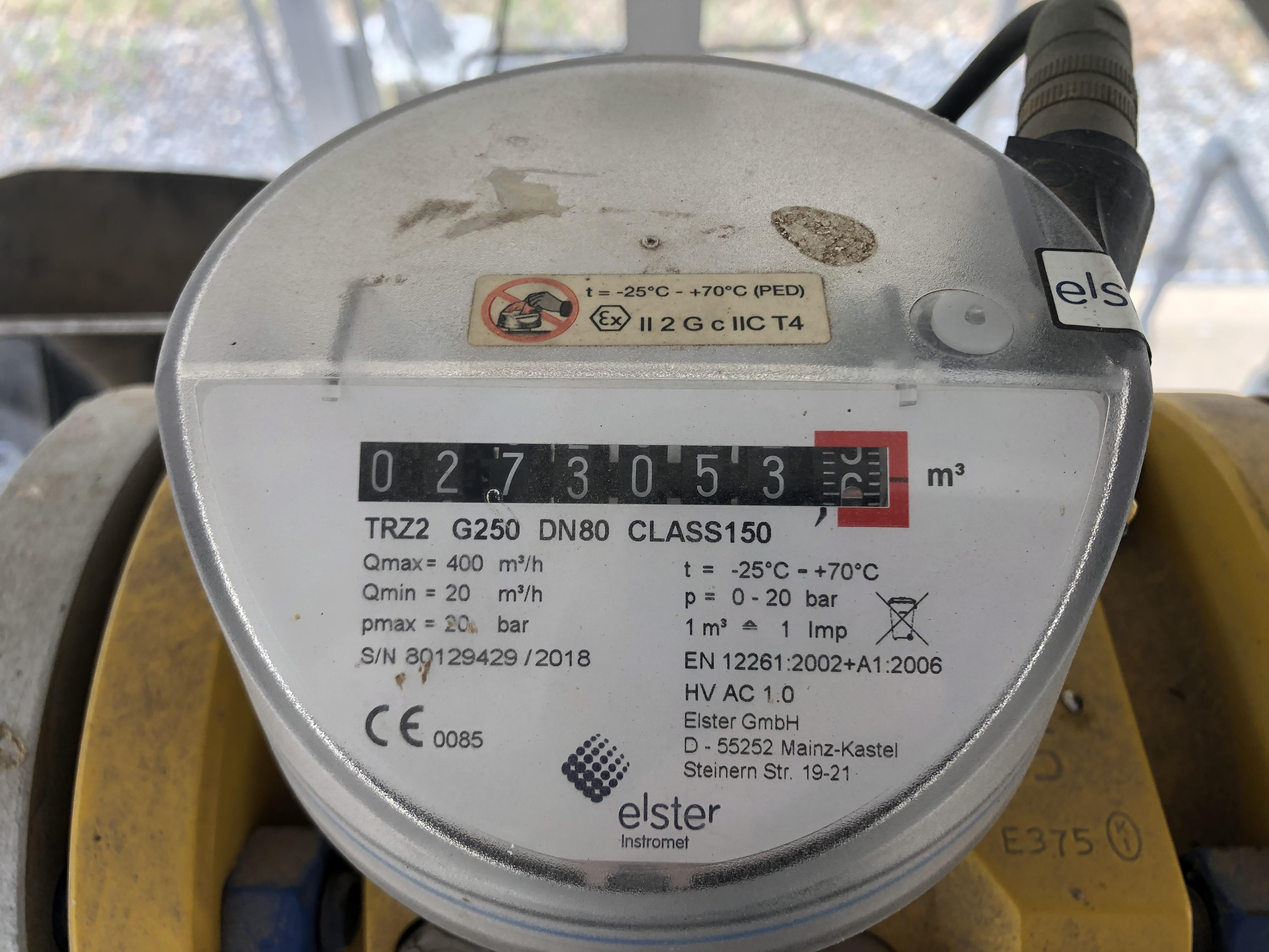analog_dial: (351, 427, 913, 540)
